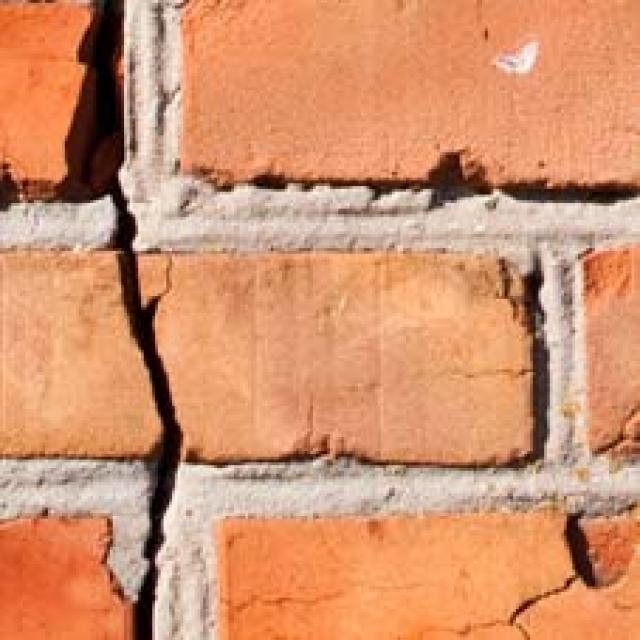Crack: (0, 0, 285, 640)
